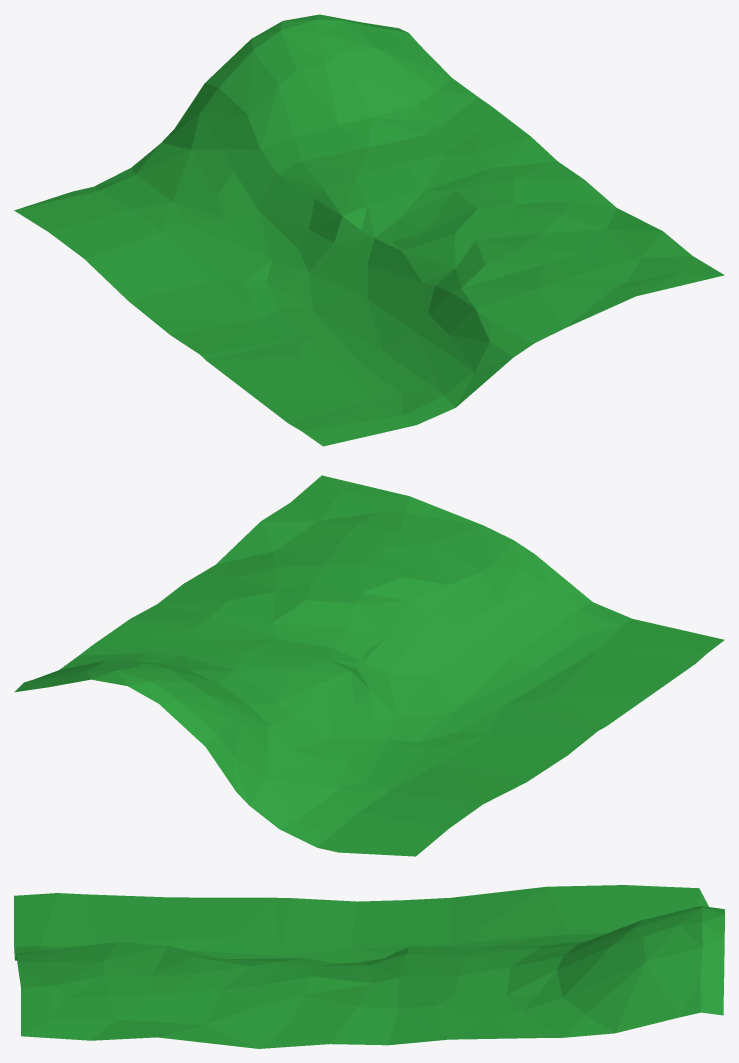
Rendered from Field_L2.fbx.
3 renders of one model, top to bottom at view 1: azimuth 30°, elevation 25°; view 2: azimuth 150°, elevation 25°; view 3: azimuth 270°, elevation 25°, orthographic. The views are drawn at different scales.
Parts seen in each view (by area): view 1: L2; view 2: L2; view 3: L2.
Part boxes in pixels (box(x1,y1,x2,y2)): L2: box(14, 14, 724, 446); L2: box(14, 475, 724, 856); L2: box(14, 885, 724, 1048).
Bounding box in the file's own units: 2499 × 757 × 3426.
